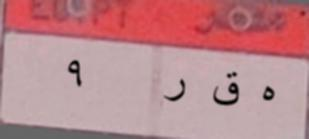9: (63, 55, 85, 90)
haa: (256, 78, 281, 108)
qaaf: (209, 66, 242, 113)
raa: (160, 72, 189, 110)
